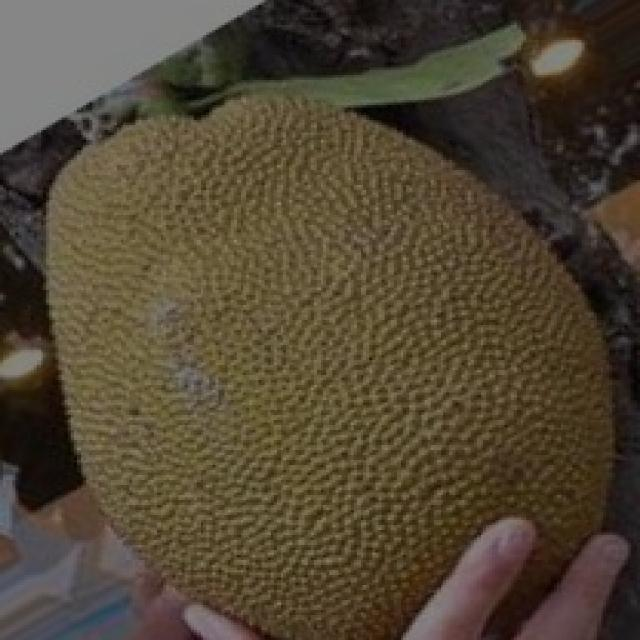Fruit: (3, 48, 412, 418), (289, 245, 637, 640), (249, 37, 637, 355)
